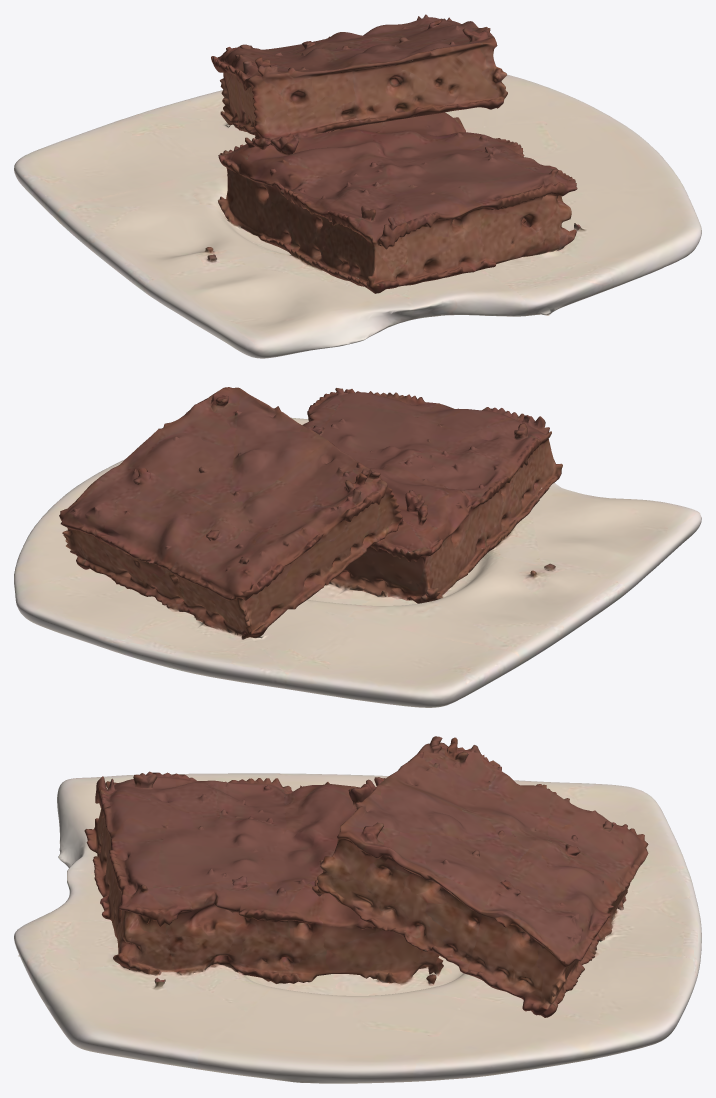
File: torta-chocolate.glb
3 renders of one model, top to bottom at view 1: azimuth 30°, elevation 25°; view 2: azimuth 150°, elevation 25°; view 3: azimuth 270°, elevation 25°, orthographic. The views are drawn at different scales.
Visible parts, largest first — view 1: tripo_node_261599c9-b6e3-4b8d-be1f-a647161b08d5; view 2: tripo_node_261599c9-b6e3-4b8d-be1f-a647161b08d5; view 3: tripo_node_261599c9-b6e3-4b8d-be1f-a647161b08d5.
Boxes of the visible parts, bbox=[...] form: tripo_node_261599c9-b6e3-4b8d-be1f-a647161b08d5: bbox=[14, 14, 701, 358]; tripo_node_261599c9-b6e3-4b8d-be1f-a647161b08d5: bbox=[14, 387, 701, 707]; tripo_node_261599c9-b6e3-4b8d-be1f-a647161b08d5: bbox=[14, 736, 701, 1083].
Size of the model in its own units: 0.98 by 0.2895 by 0.9668.
Materials: 1 (1 with a texture image).
